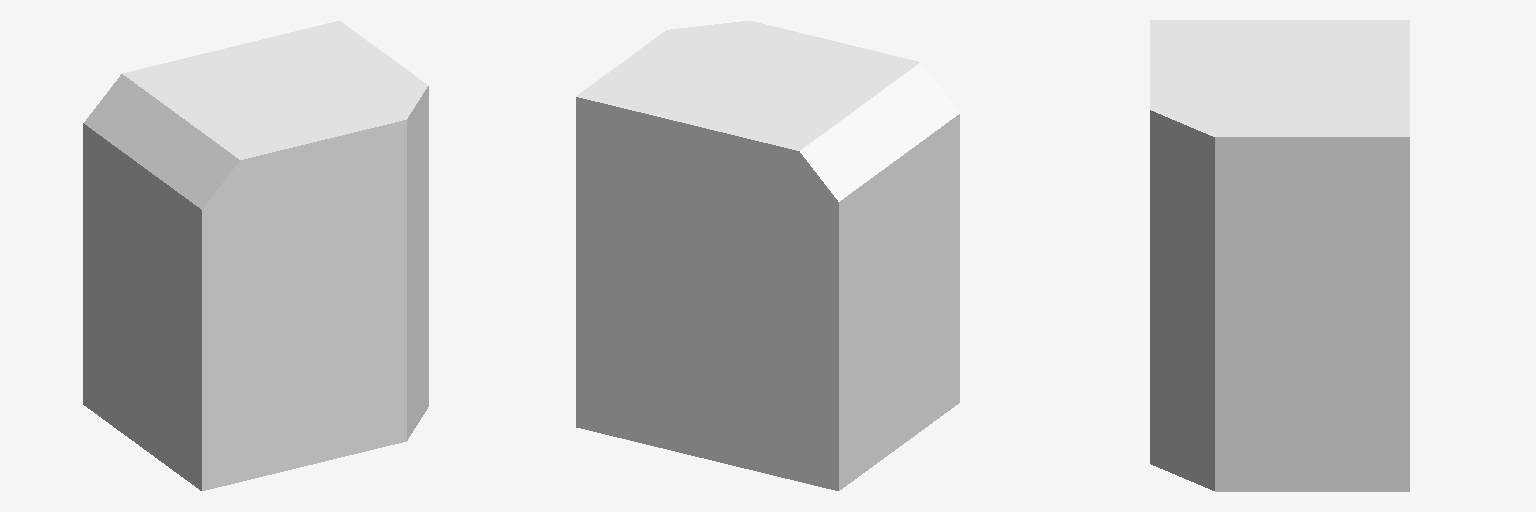
The robot description file, URDF, robot "obstacle1.obj":
<robot name="obstacle1.obj">
	<link name="_name">
		<visual>
			<origin xyz="0.0006850053937432579 -0.0008629989212513484 -0.05946601941747573" rpy="0 0 0" />
			<geometry>
				<mesh filename="obstacle1.obj" scale="0.001 0.001 0.001" />
			</geometry>
			<material name="texture">
				<color rgba="1.0 1.0 1.0 1.0" />
			</material>
		</visual>
		<collision>
			<geometry>
				<mesh filename="obstacle1_vhacd.obj" scale="0.001 0.001 0.001" />
			</geometry>
		<origin xyz="0.0006850053937432579 -0.0008629989212513484 -0.05946601941747573" rpy="0 0 0" /></collision>
		<inertial>
			<mass value="0.3" />
			<inertia ixx="0.6" ixy="0.0" ixz="0.0" iyy="0.5" iyz="-0.0" izz="0.08" />
		</inertial>
	</link>
</robot>

--- Facts derived from the render (not from the file) ---
3 views of the same robot in one strip: view 1: azimuth 30°, elevation 25°; view 2: azimuth 150°, elevation 25°; view 3: azimuth 270°, elevation 25° (orthographic).
Robot: obstacle1.obj — 1 links, 0 joints (none); root link _name; default pose: every joint at zero.
Visible links, largest first — view 1: _name; view 2: _name; view 3: _name.
Link boxes in pixels (bbox=[...]): _name: bbox=[83, 21, 428, 490]; _name: bbox=[576, 21, 959, 490]; _name: bbox=[1150, 20, 1409, 491].
Bounding box of the posed robot: 0.1 × 0.08 × 0.12 m (x, y, z).
Meshes: 1 distinct files referenced, 1 mesh visuals loaded (1 OBJ).